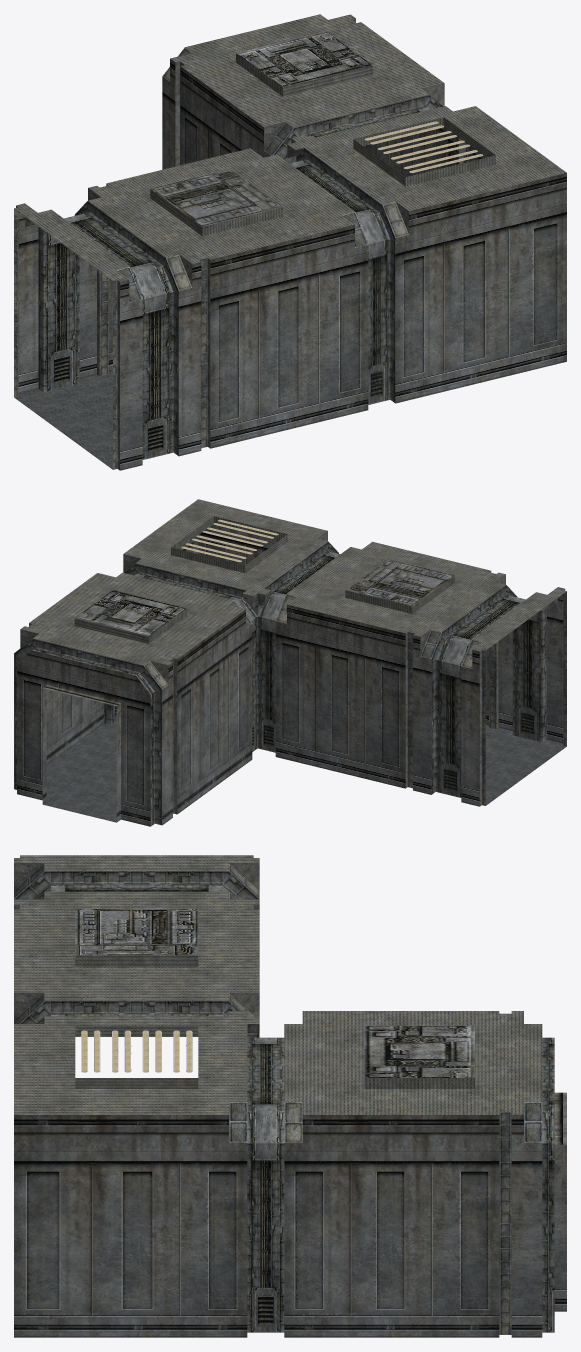
The model's file is poi_all_impl_bunker_abandoned_s01_r25_prearmory_mesh.fbx.
3 views of the same model, one above another, from view 1: azimuth 30°, elevation 25°; view 2: azimuth 150°, elevation 25°; view 3: azimuth 270°, elevation 25° (orthographic). The views are drawn at different scales.
Parts seen in each view (by area): view 1: mesh_node; view 2: mesh_node; view 3: mesh_node.
Part boxes in pixels (left/top/right/bottom): mesh_node: left=14, top=14, right=566, bottom=470; mesh_node: left=14, top=499, right=566, bottom=826; mesh_node: left=14, top=855, right=566, bottom=1337.
Bounding box in the file's own units: 10 × 4.2 × 9.
